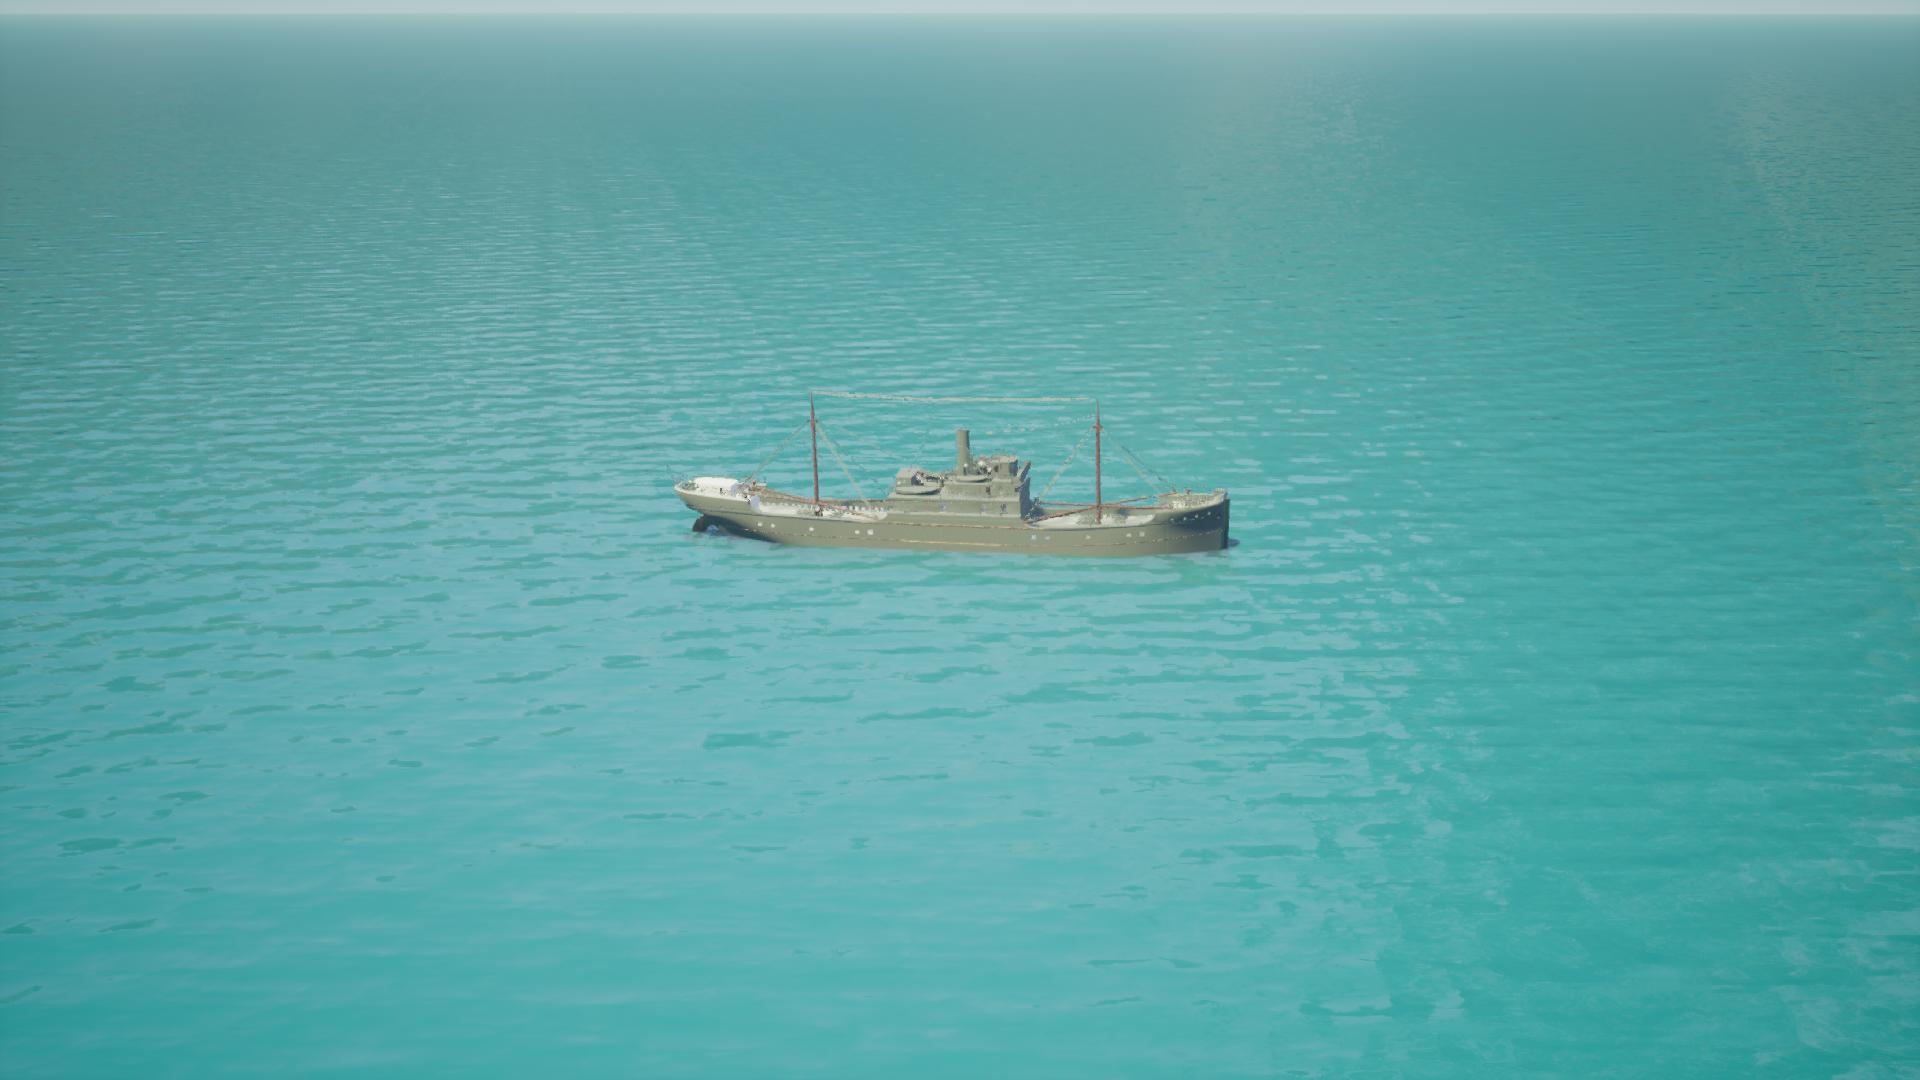Fishing Boat: (673, 394, 1238, 559)
